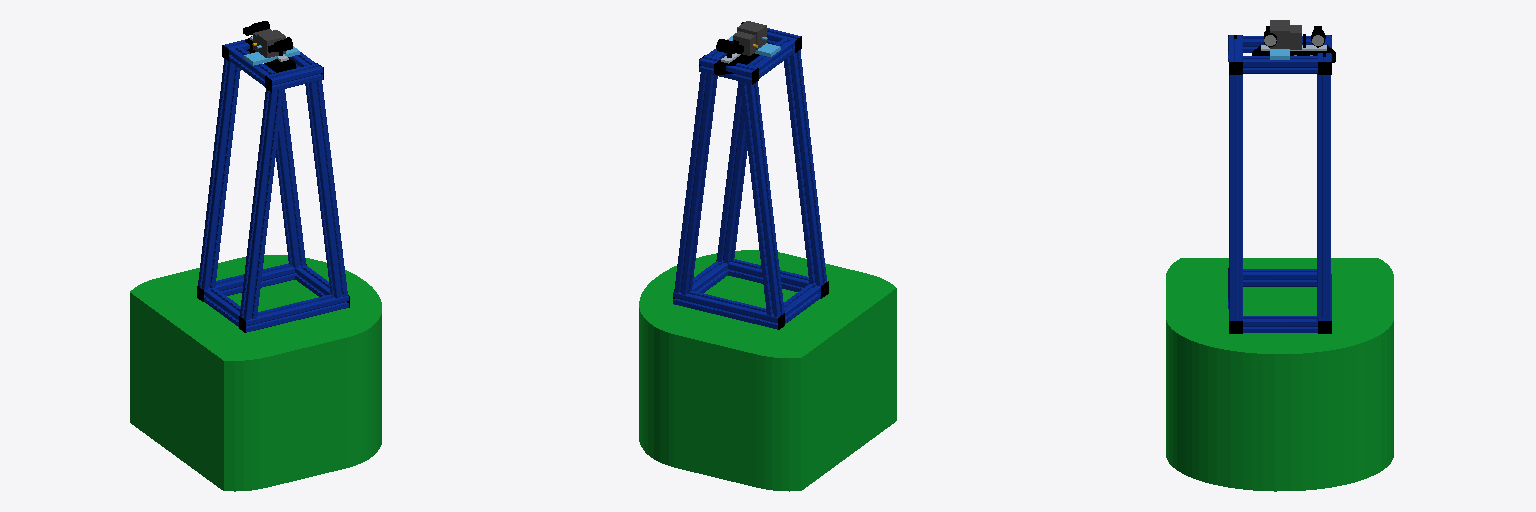
robot.urdf — mild:
<?xml version="1.0"?>
<robot name="mild">
  <link name="base_link">
    <visual>
            <geometry>
                <mesh filename="package://asr_mild_kinematic_chain/robot_description/mild.dae"/>
            </geometry>
            <origin xyz="-0.03 -0.03 0" rpy="0 0 -1.57"/>
        </visual>
    </link>
  <link name="base_laser"/>
  <link name="camera_left_frame"/>
   <link name="camera_right_frame"/>
  <link name="ptu_base_link"/>
  <link name="ptu_pan_link_rotated" /> 
  <link name="ptu_tilted_link" />
  <link name="ptu_mount_link" >
  <visual>
        <geometry>
                <mesh filename="package://asr_mild_kinematic_chain/robot_description/camera.dae"/>
        </geometry>
	<origin xyz="0 0.01 0.005" rpy="-1.5708 0 -1.5708"/>
      </visual>
      </link>
  <link name="ptu_tilt_link">
      <visual>
	<material name="ptu_body_color">
          <color rgba="0.3 0.3 0.3 1.0" />
        </material>
        <geometry>
          <box size="0.066 0.06 0.05" />
        </geometry>
        <origin xyz="-0.025 0.01 -0.01" />
      </visual>
      <visual>
        <geometry>
          <cylinder length="0.015" radius="0.005" />
        </geometry>
        <origin xyz="-0.064 0.011 -0.01" rpy="0 1.57 0" />
      </visual>
    </link>
  <link name="ptu_pan_link">
      <visual>
	<material name="ptu_body_color">
          <color rgba="0.3 0.3 0.3 1.0" />
        </material>
        <geometry>
          <box size="0.076 0.064 0.064" />
        </geometry>
        <origin xyz="-0.025 0.01 0" />
      </visual>
      <visual>
        <geometry>
          <cylinder length="0.015" radius="0.005" />
        </geometry>
        <origin xyz="-0.074 0.011 0" rpy="0 1.57 0" />
      </visual>
      <visual>
        <geometry>
          <box size="0.18 0.064 0.014" />
        </geometry>
        <origin xyz="-0.025 0.01 -0.04" />
      </visual>
    </link>
       
   
    <joint name="base_to_laser" type="fixed">
        <parent link="base_link"/>
        <child link="base_laser"/>
        <origin xyz=".27 0 .22"/>
    </joint>
    
    <joint name="base_to_ptu" type="fixed">
        <parent link="base_link"/>
        <child link="ptu_base_link"/>
        <origin xyz="0.0 -0.03 1.425"/>

  <node pkg="tf" type="static_transform_publisher" name="ptu_to_rviz" args="0 0 0 0 3.14159265359 0 PTU map 100"/>
    </joint>

    <joint name="ptu_base" type="fixed">
      <parent link="ptu_base_link"/>
      <child link="ptu_pan_link"/>
      <origin xyz="0 -0.011 0.022"/>
    </joint>

    <!-- The pan joint - rotates around y -->
    <joint name="ptu_pan" type="revolute">
      <parent link="ptu_pan_link" />
      <origin xyz="0 0 0" rpy="-1.5708 0 0" />
      <child link="ptu_pan_link_rotated" />
      <axis xyz="0 1 0" rpy="0 0 0" />
      <limit lower="-45" upper="45"
             effort="30" velocity="1900"/>
    </joint>
    
    <!--static transformation between pan and tilt joint-->
    <joint name="ptu_pan_to_tilt" type="fixed">
      <parent link="ptu_pan_link_rotated" />
      <origin xyz="0 0 0.066" rpy="0 0 0" />
      <child link="ptu_tilt_link" />
    </joint>

    <!-- The tilt joint - rotates around y -->
    <joint name="ptu_tilt" type="revolute">
      <parent link="ptu_tilt_link" />
      <origin xyz="0 0 0" rpy="-1.5708 0 0" />
      <child link="ptu_tilted_link" />
      <axis xyz="0 1 0" />
      <limit lower="-46.647514" upper="31.012625"
             effort="30" velocity="1900"/>
    </joint>

    <!-- Fixed joint to provide a convenient attachment point for accessories. -->
    <joint name="ptu_mount" type="fixed">
      <parent link="ptu_tilted_link"/>
      <child link="ptu_mount_link"/>
      <origin xyz="0 0 -0.03912" rpy="0 0 0" />
    </joint>

    <!-- Translates between z-Axes convention (z-Axes along optical axis for camera) -->
    <!-- Defines camera offset to ptu base  -->
    <joint name="mount_to_camera_right" type="fixed">
        <parent link="ptu_mount_link"/>
        <child link="camera_right_frame"/>
        <origin xyz="0 -0.072 0.04" rpy="-1.570796327 0 -1.570796327"/>
    </joint>
    <joint name="mount_to_camera_left" type="fixed">
        <parent link="ptu_mount_link"/>
        <child link="camera_left_frame"/>
	<origin xyz="0 0.081 0.04" rpy="-1.570796327 0 -1.570796327"/>
    </joint>
  
</robot>

--- Render facts (derived) ---
3 views of the same robot in one strip: view 1: azimuth 30°, elevation 25°; view 2: azimuth 150°, elevation 25°; view 3: azimuth 270°, elevation 25° (orthographic).
Robot: mild — 10 links, 9 joints (2 revolute, 7 fixed); root link base_link; default pose: every joint at zero.
Links seen in each view (by area): view 1: base_link, ptu_mount_link, ptu_pan_link; view 2: base_link, ptu_mount_link, ptu_pan_link; view 3: base_link, ptu_mount_link, ptu_pan_link.
Link boxes in pixels (x1=…): base_link: x1=130, y1=39, x2=381, y2=491; ptu_mount_link: x1=243, y1=21, x2=295, y2=72; ptu_pan_link: x1=244, y1=30, x2=299, y2=65; base_link: x1=639, y1=28, x2=896, y2=491; ptu_mount_link: x1=714, y1=22, x2=759, y2=74; ptu_pan_link: x1=727, y1=21, x2=780, y2=56; base_link: x1=1166, y1=35, x2=1393, y2=491; ptu_mount_link: x1=1252, y1=26, x2=1335, y2=62; ptu_pan_link: x1=1270, y1=20, x2=1289, y2=59.
Bounding box of the posed robot: 0.7299 × 0.7302 × 1.48 m (x, y, z).
2 mesh visuals loaded from 2 distinct referenced files (2 Collada DAE).